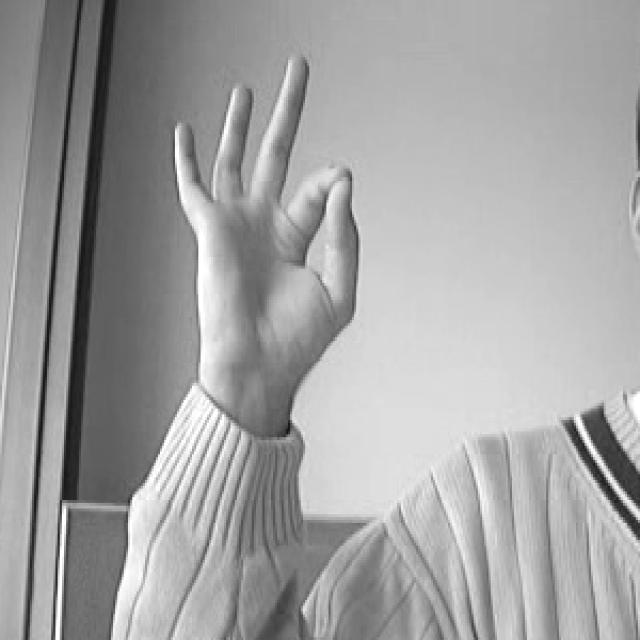F: (140, 45, 387, 441)
